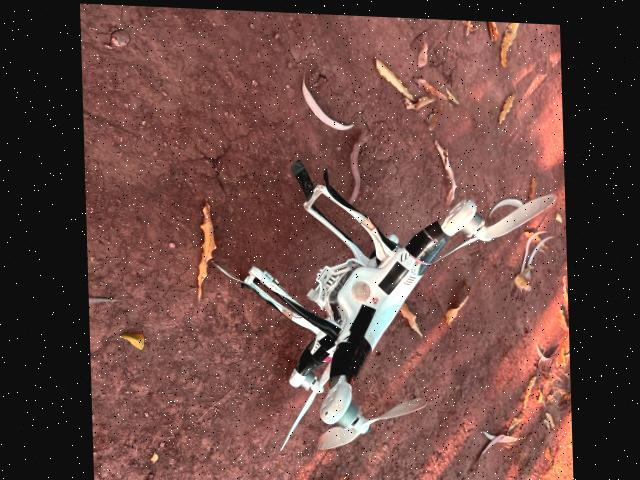drone: (188, 65, 527, 480)
